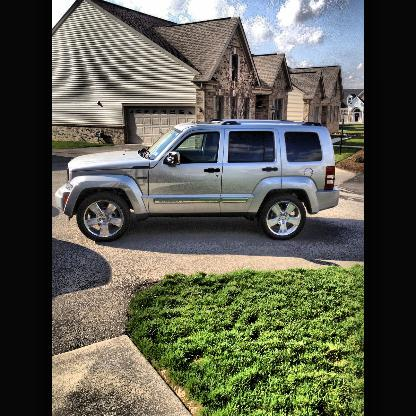Jeep Liberty SUV 2012: (53, 117, 342, 247)
